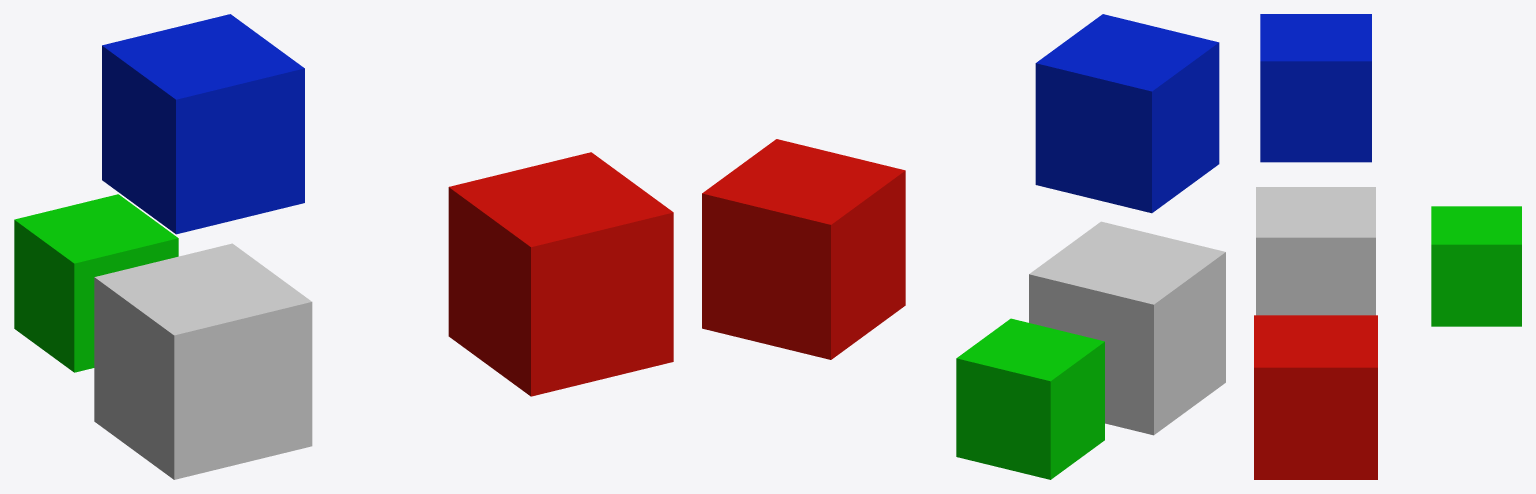
Rendered from camera.gltf.
3 renders of one model, left to right at view 1: azimuth 30°, elevation 25°; view 2: azimuth 150°, elevation 25°; view 3: azimuth 270°, elevation 25°, orthographic. The views are drawn at different scales.
Parts seen in each view (by area): view 1: Cube.003; view 2: Cube.003; view 3: Cube.003.
Part boxes in pixels (bbox=[...]): Cube.003: bbox=[14, 14, 673, 479]; Cube.003: bbox=[702, 14, 1225, 479]; Cube.003: bbox=[1254, 14, 1521, 479].
Bounding box in the file's own units: 2.46 × 1.79 × 1.52.
